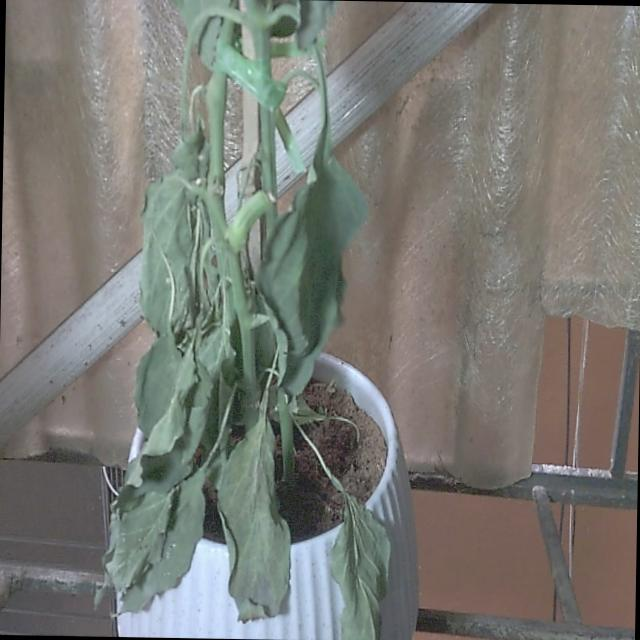Leaf: (292, 131, 359, 358), (217, 422, 292, 622), (329, 491, 392, 640)
